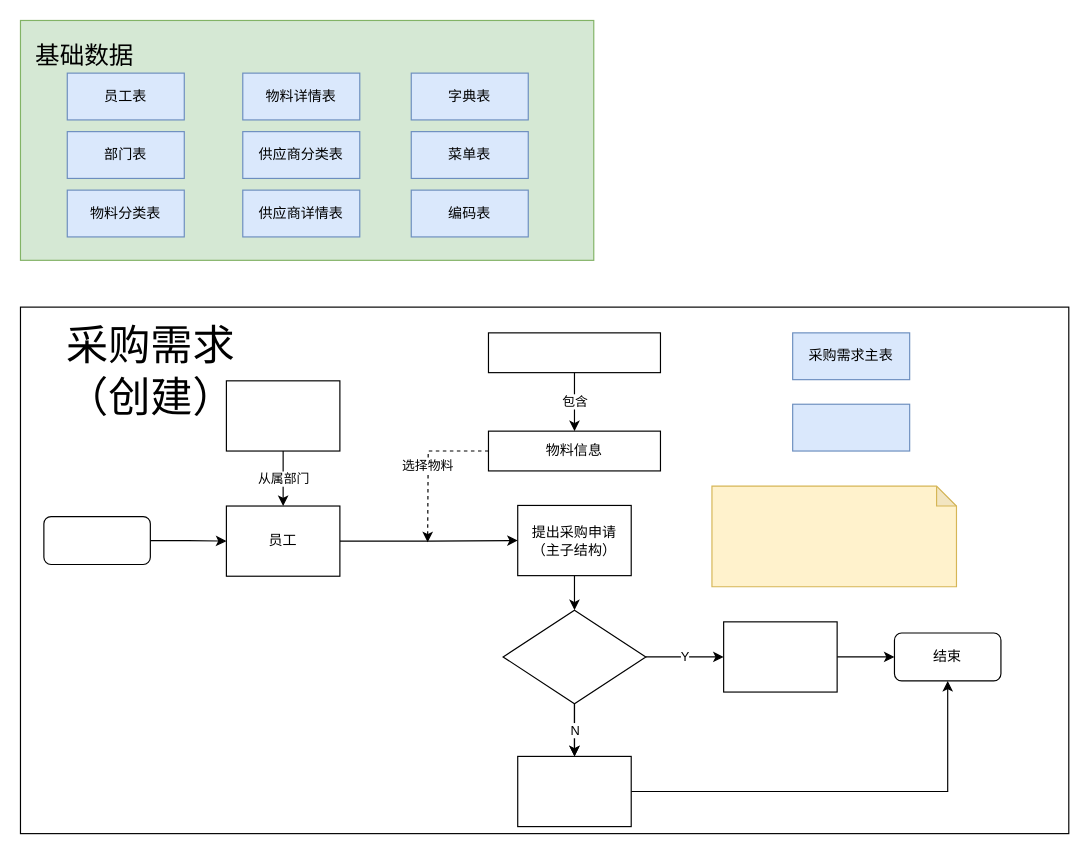
Some shapes in this 1089 by 854 pixel diagram are drawn without their labels. Here are the shapes that lost their labels. From the top down, the centre of each, then its label:
At point 573,352: "物料分类（多级）".
At point 282,415: "部门".
At point 96,540: "开始".
At point 833,536: "员工只能看到自己的采购申请 部门领导只能审批自己部门下属的采购申请".
At point 574,656: "部门领导审批通过".
At point 779,656: "回写采购申请单状态为通过".
At point 574,791: "回写采购申请单状态为驳回".
